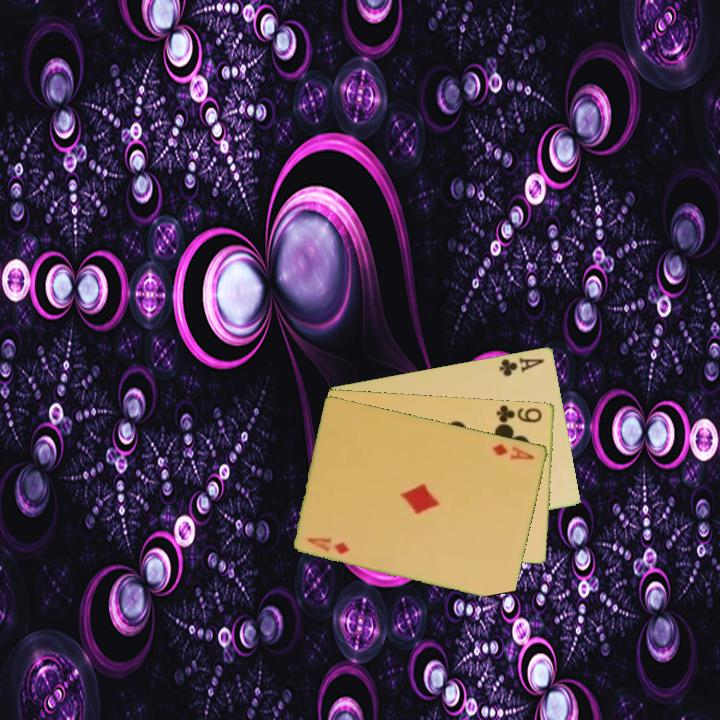9c: (493, 401, 545, 425)
Ac: (496, 354, 547, 379)
Ad: (304, 534, 352, 557), (488, 440, 538, 462)
